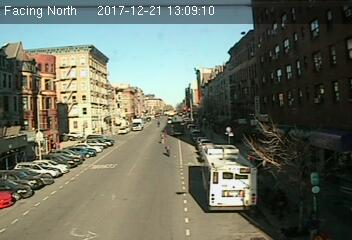bicycle: (164, 144, 171, 158)
bus: (199, 143, 258, 214)
